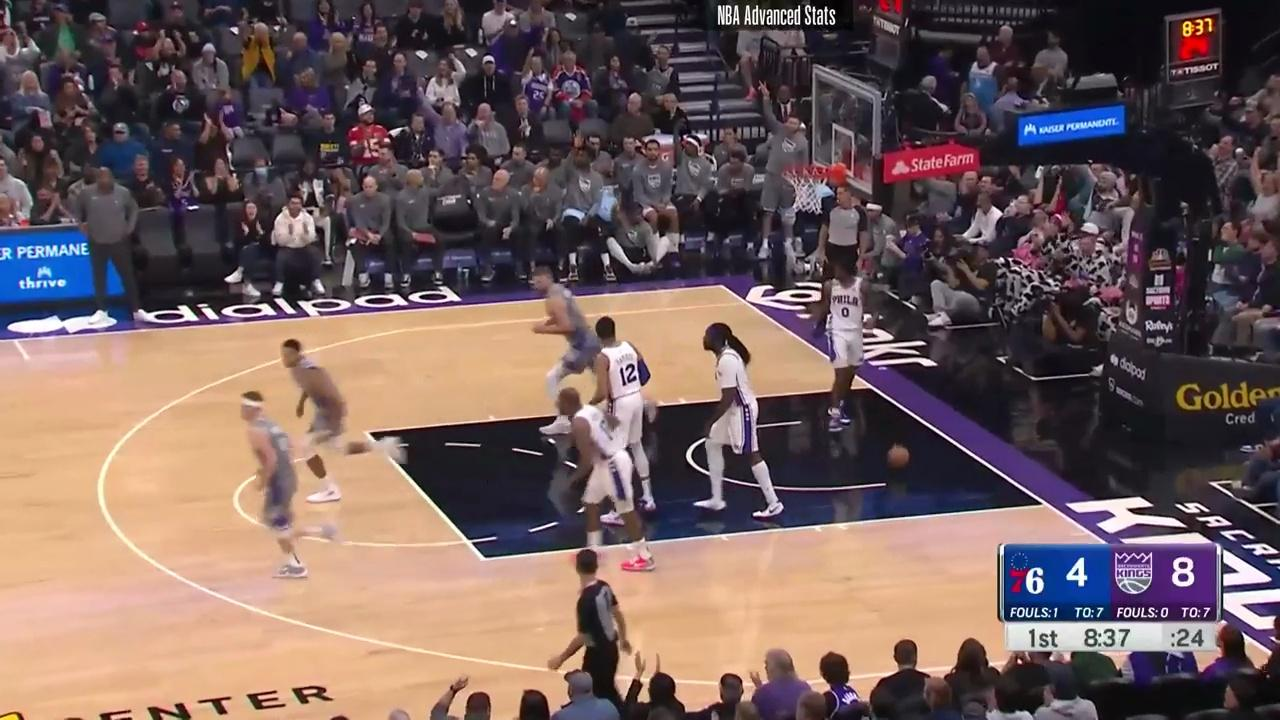Backboard: (811, 64, 884, 202)
Ball: (887, 444, 910, 468)
Basket: (777, 165, 837, 215)
Person: (693, 315, 785, 526), (554, 383, 652, 570), (235, 395, 322, 580), (586, 314, 663, 519), (278, 337, 379, 493), (528, 253, 603, 434), (817, 260, 880, 433)
Referee: (550, 549, 644, 710), (818, 190, 869, 303)
Shot Clock: (1162, 6, 1230, 119)
